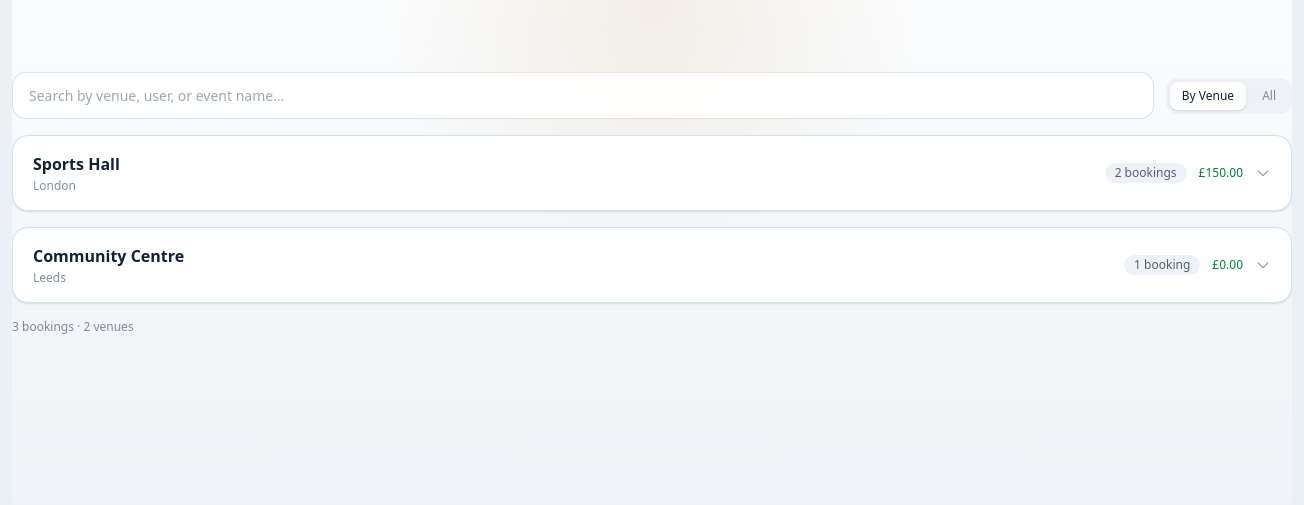
VenuesTab › expands a venue group to show its bookings on click
The width and height of the screenshot is (1304, 505).
Expected: the text "Birthday Party" is not shown
What coordinates should you click on to do the following:
click the text "Sports Hall"
I would click on:
 (76, 164)
Its box is x1=33 y1=152 x2=120 y2=176.
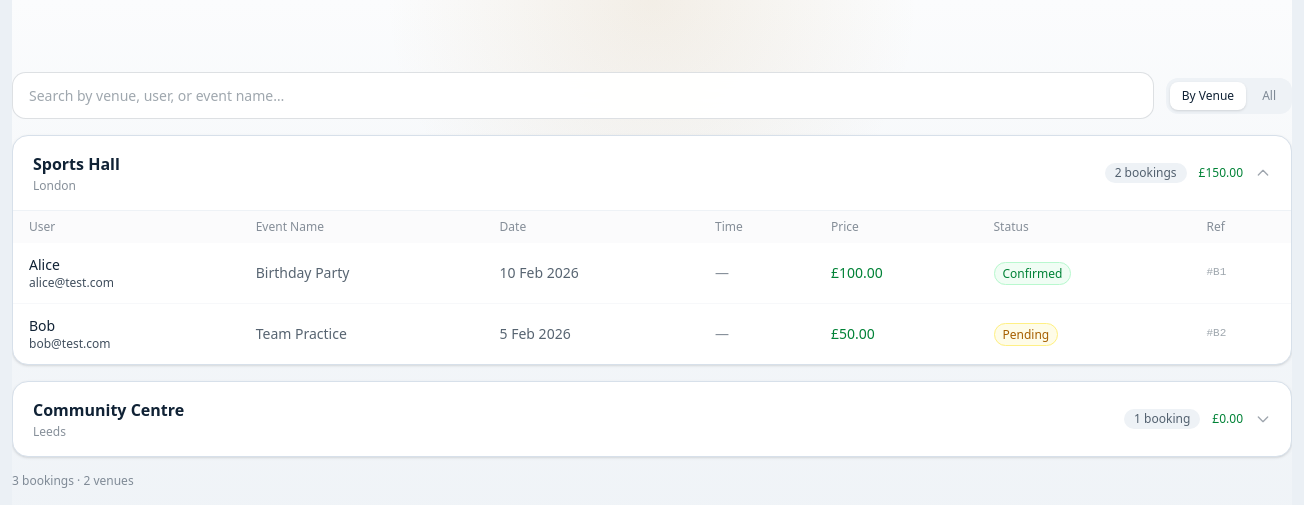
Expected: the text "Birthday Party" is shown, x1=240 y1=243 x2=484 y2=304
Expected: the text "Team Practice" is shown, x1=240 y1=304 x2=484 y2=364
